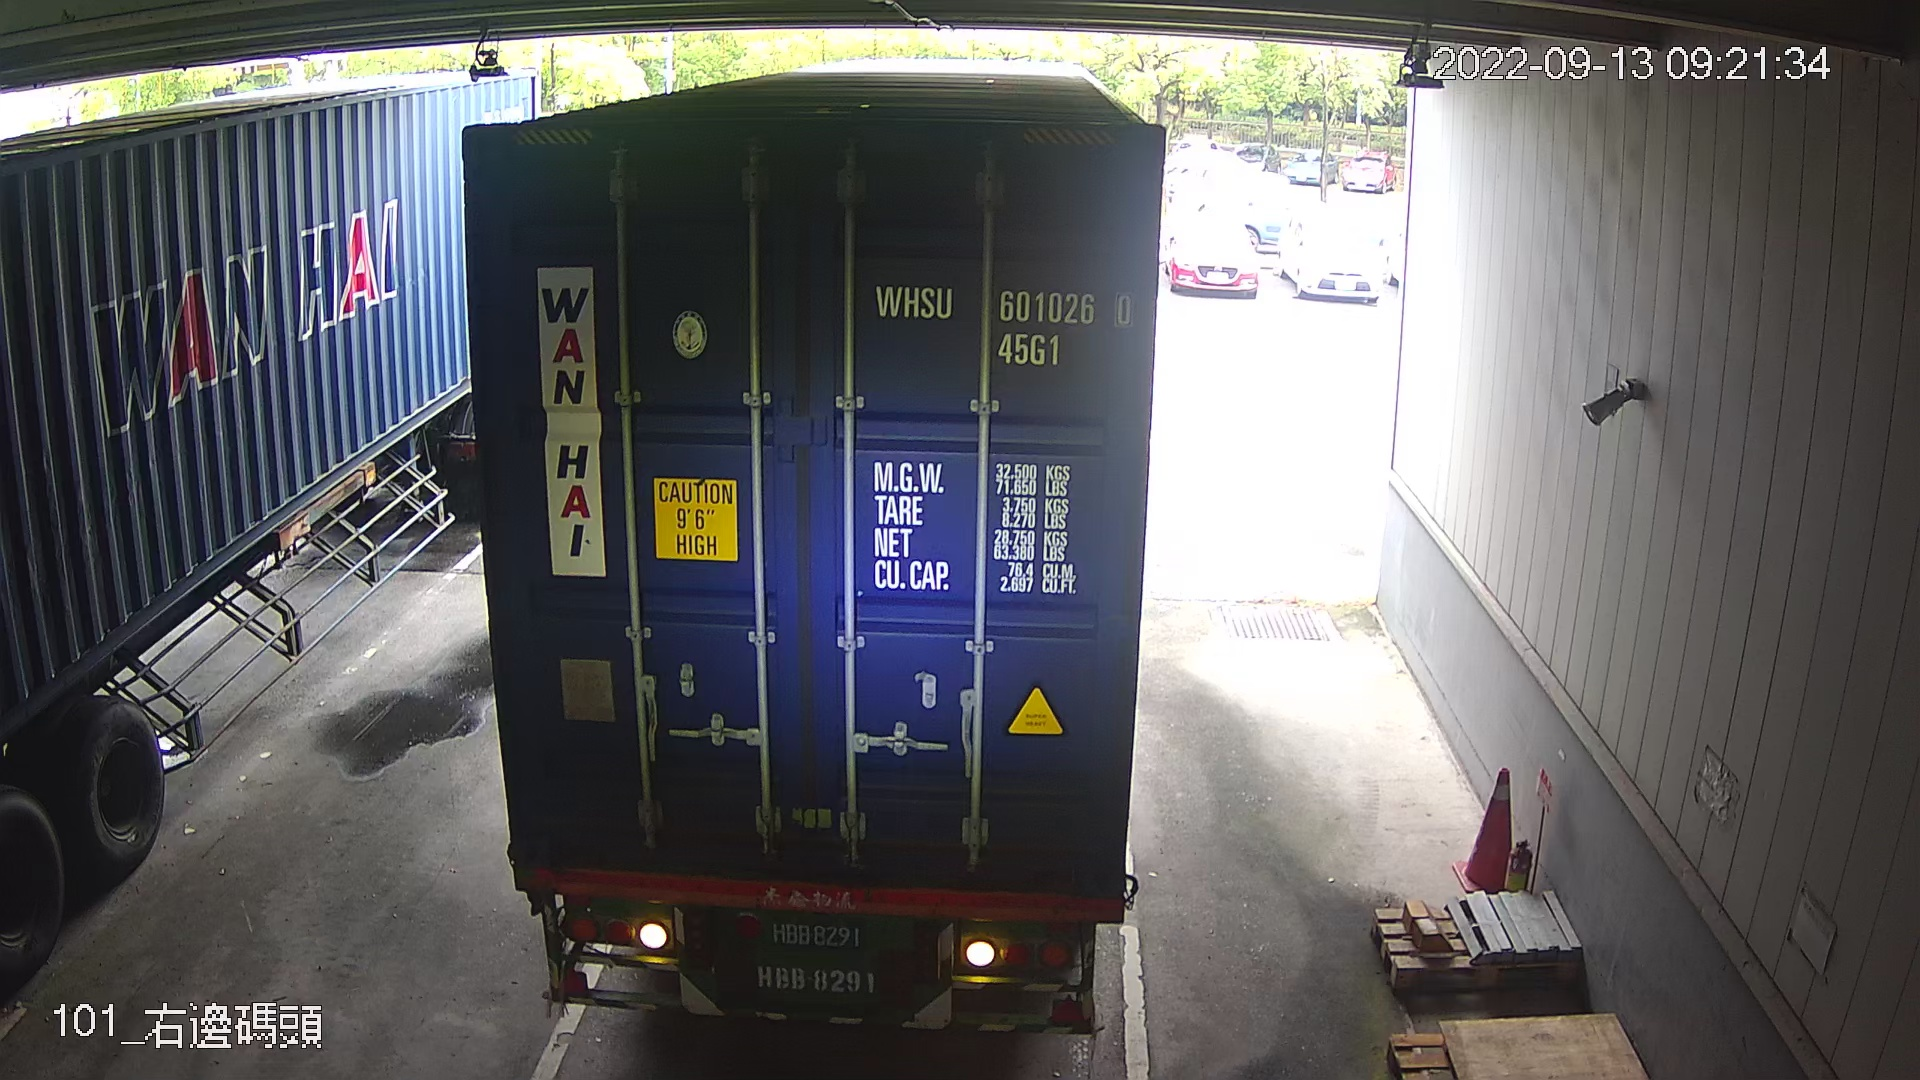container: (866, 269, 1139, 377)
